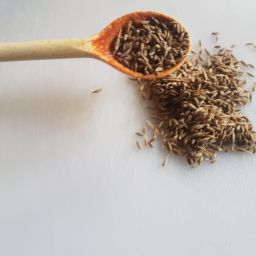Cumin (zeera): (94, 33, 256, 171), (103, 68, 256, 163), (187, 27, 256, 160), (106, 9, 196, 77)
